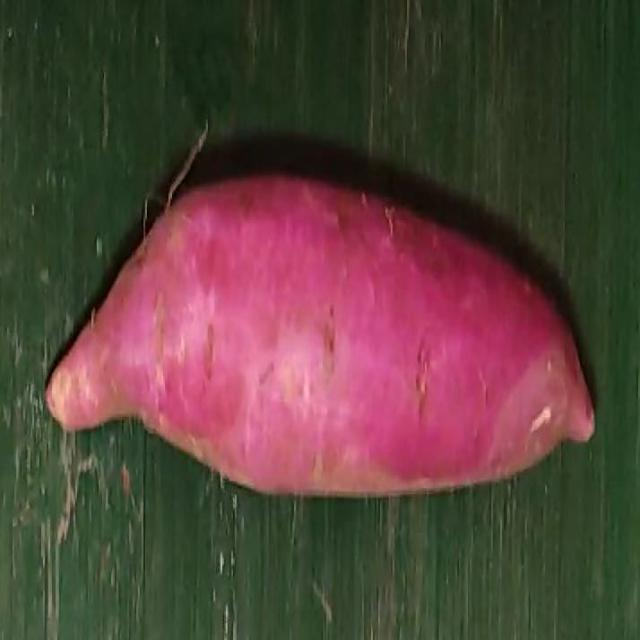Sweet Potato: (44, 174, 596, 498)
